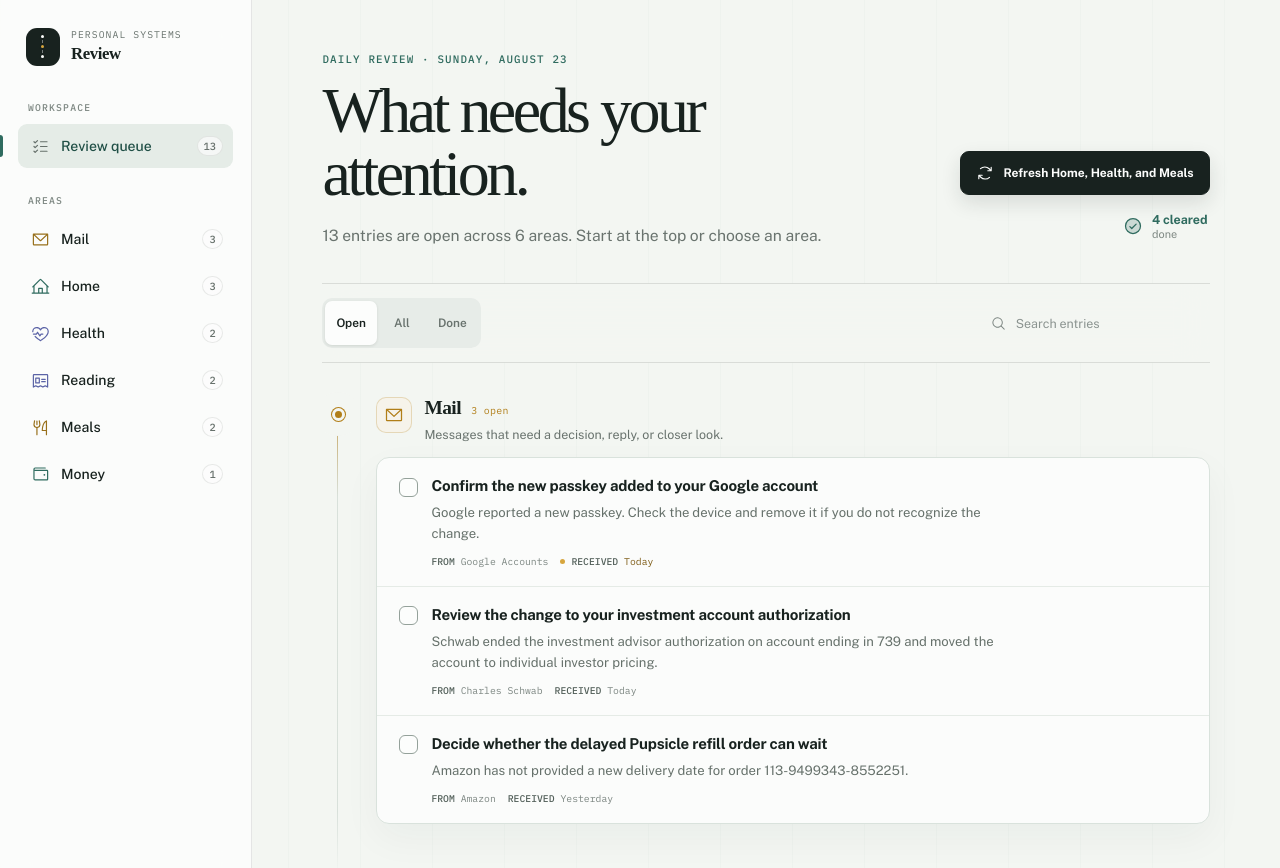
Test: ReviewApp › focuses the empty-state action after completing the only visible entry
Expected: the heading "Mail" is shown, left=424, top=397, right=461, bottom=419
Click the button named "Money1" at (126, 474), box left=18, top=452, right=233, bottom=496
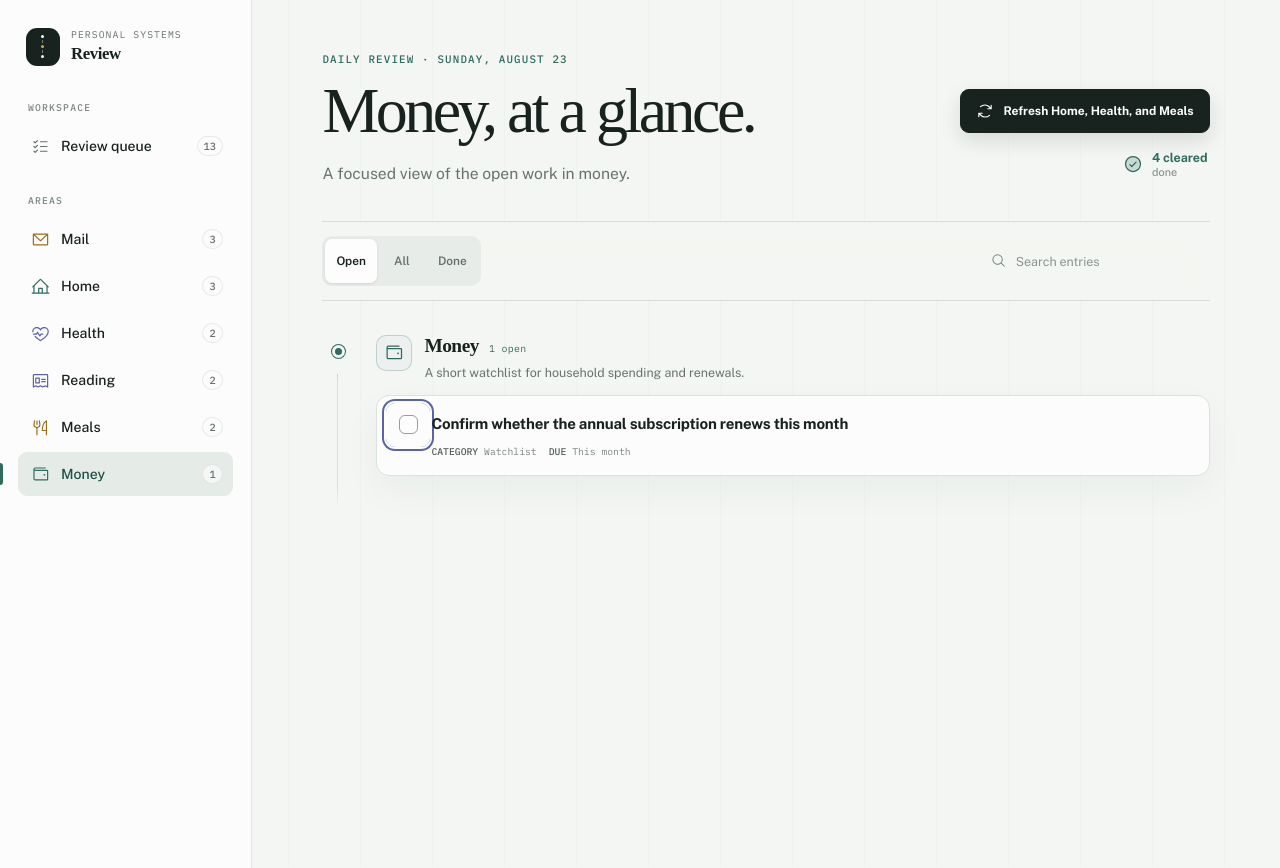
Press Enter
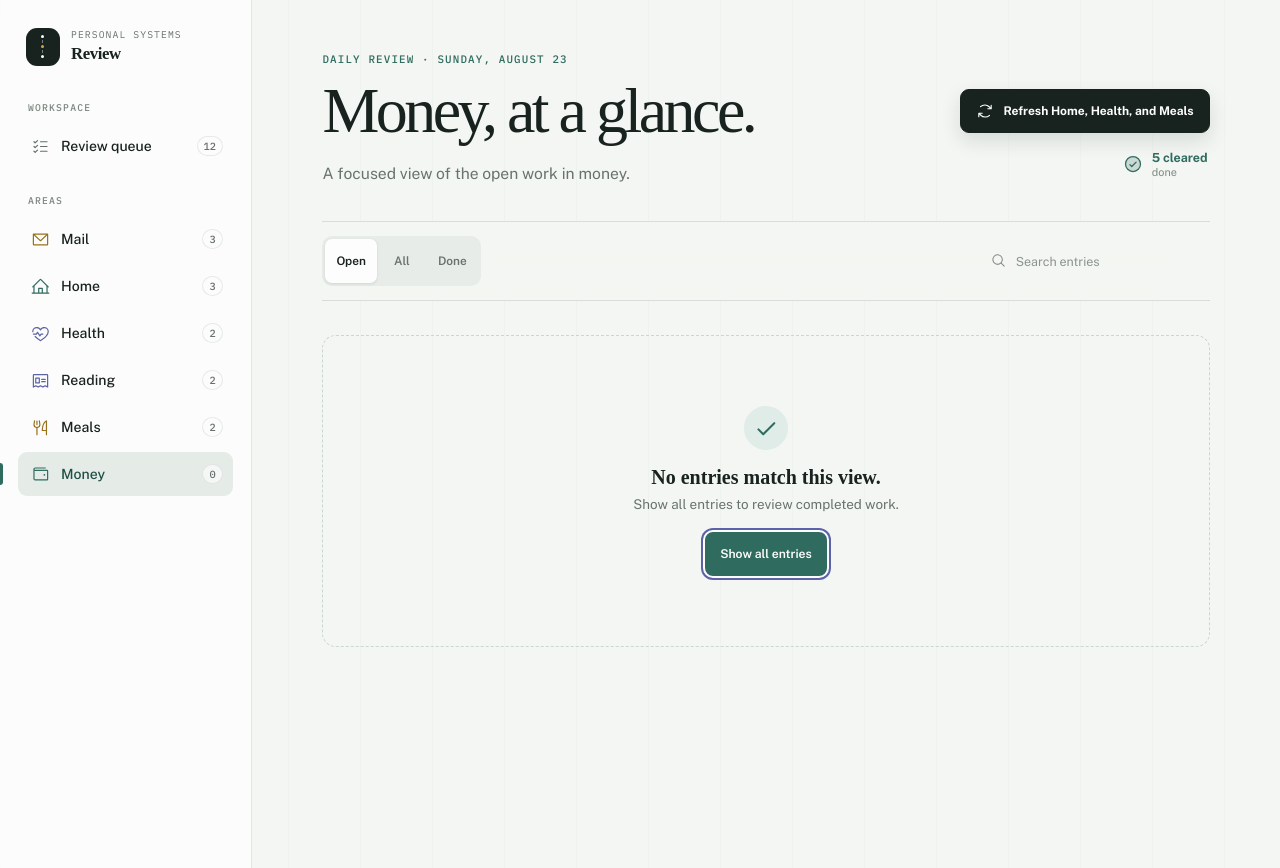
Now the heading "No entries match this view." is shown, box left=651, top=466, right=881, bottom=488
